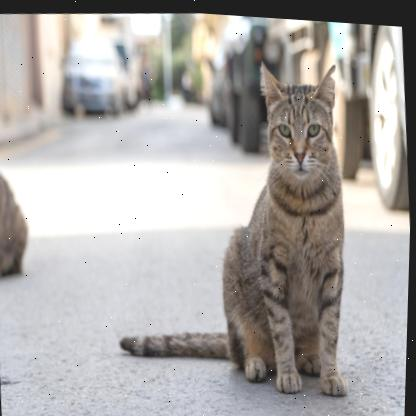cat: (204, 57, 359, 389)
